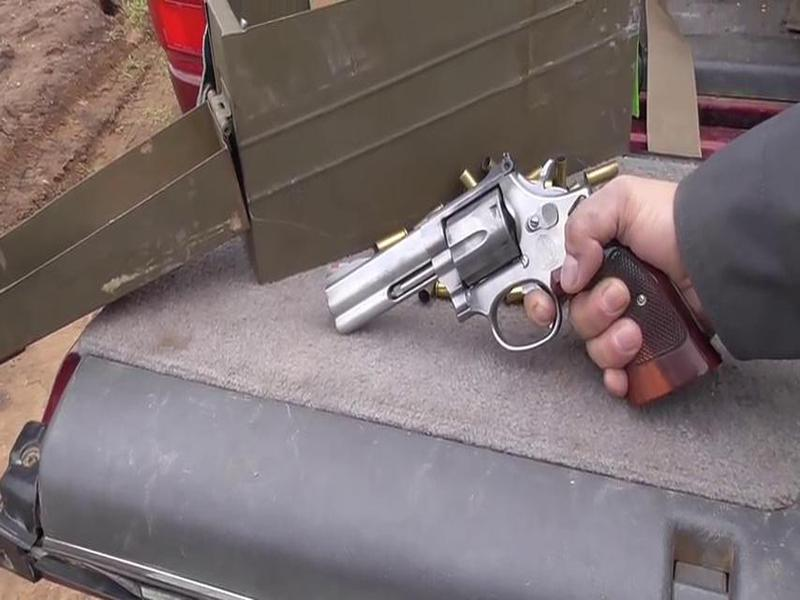Revolver: (334, 161, 694, 423)
